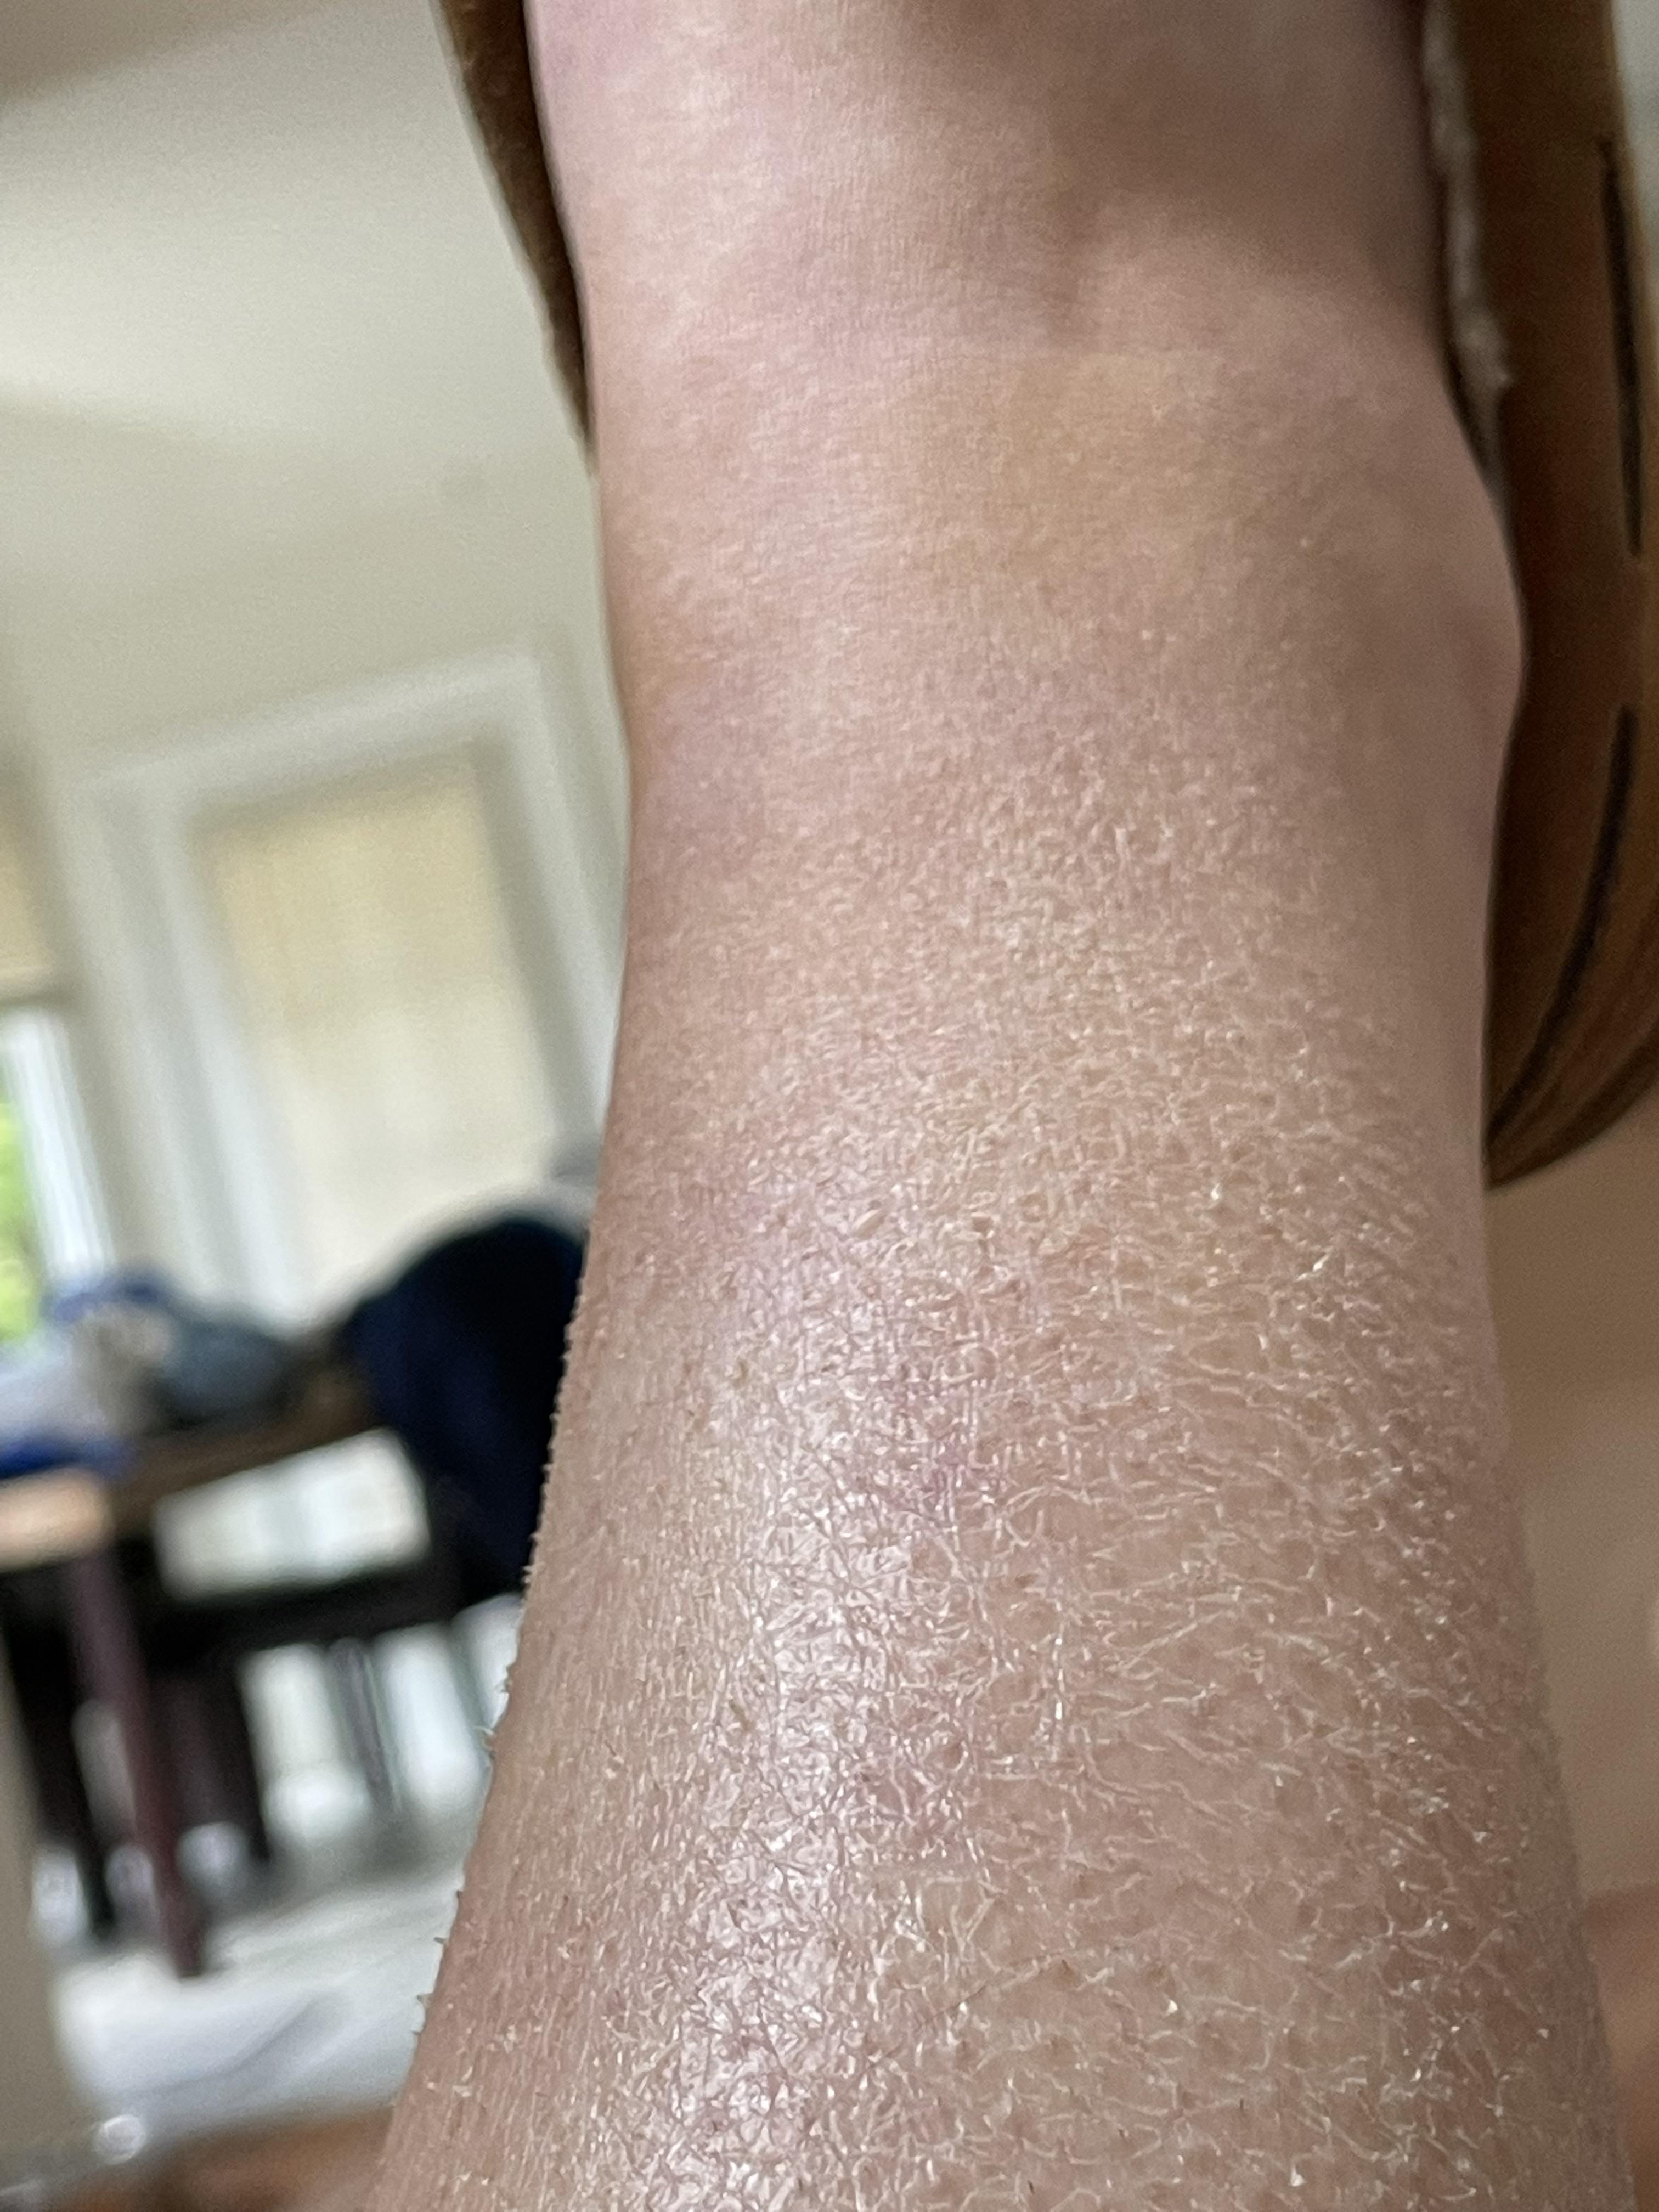Dry-Skin: (643, 512, 1450, 2212)
